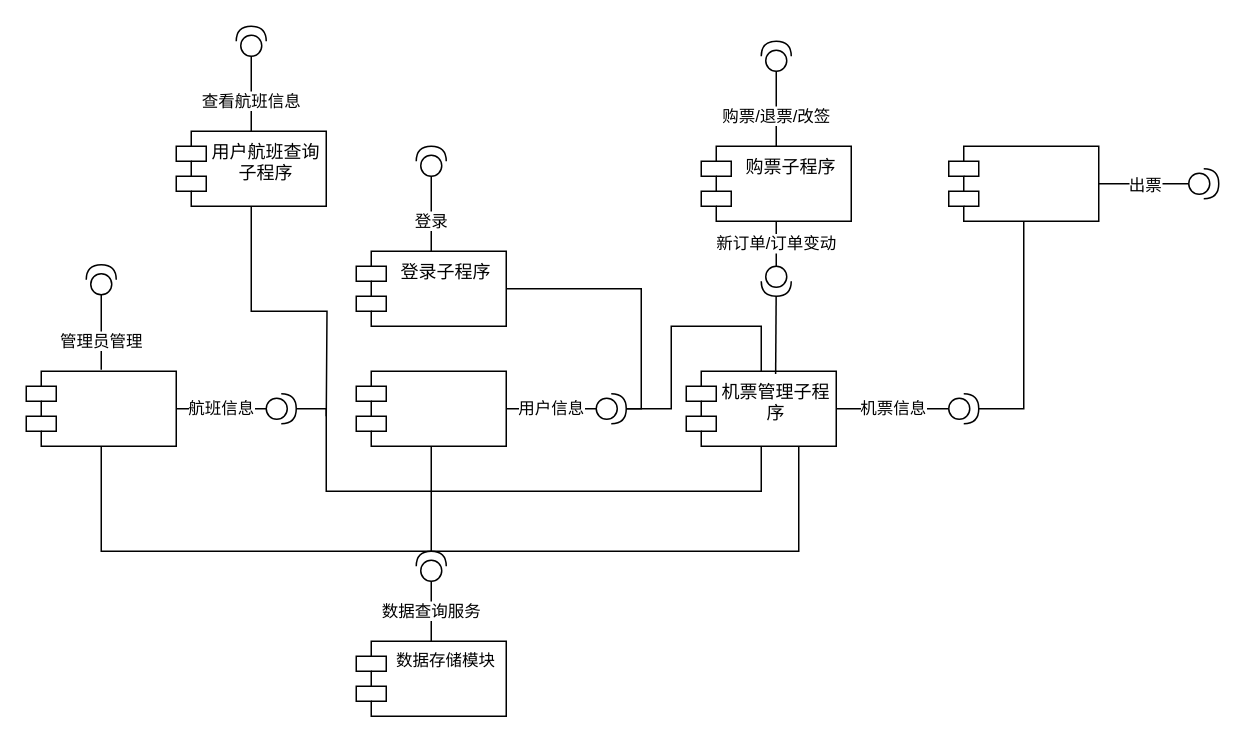
Image size: 1245x743. Some labels were removed from this diagram. The shapes that lost their labels are listed below. From the top down, each one's centre as x and y in pixels, then its label:
[1023,183]: 取票机控制子程序
[100,408]: 航班信息管理子程序
[430,408]: 用户信息管理子程序
